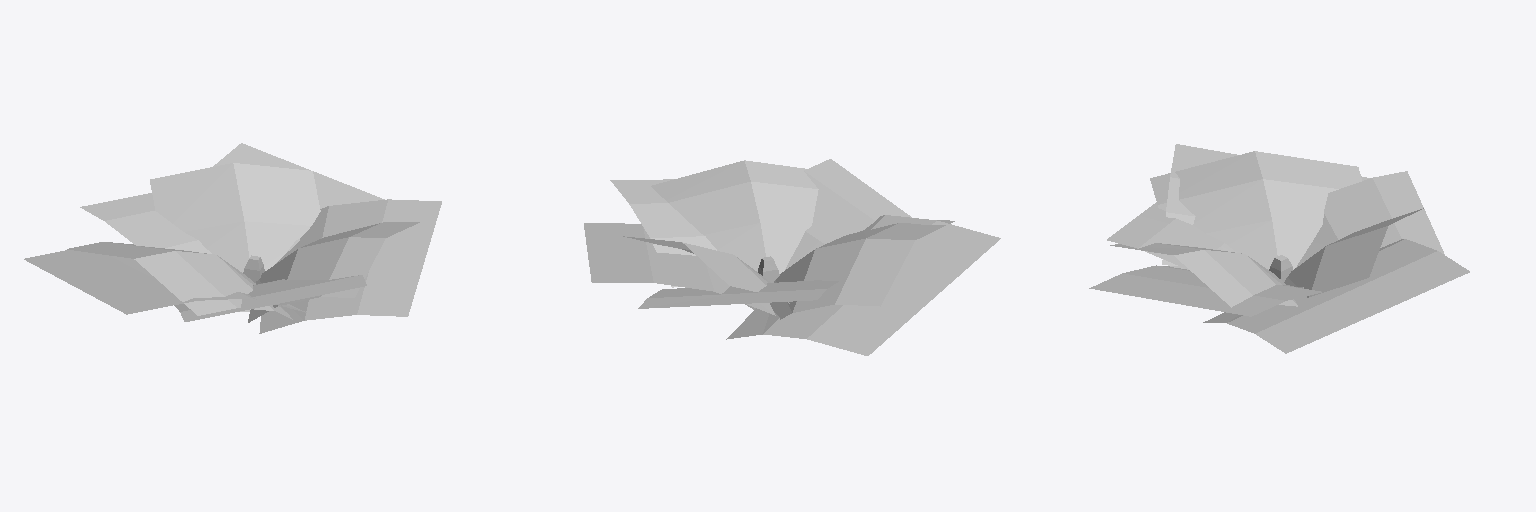
Rendered from Cartoon Flowers_12.obj.
The picture shows the model from 3 angles: view 1: azimuth 30°, elevation 25°; view 2: azimuth 150°, elevation 25°; view 3: azimuth 270°, elevation 25°; orthographic projection.
Visible parts, largest first — view 1: Cartoon Flowers_12; view 2: Cartoon Flowers_12; view 3: Cartoon Flowers_12.
Boxes of the visible parts, <box> form: Cartoon Flowers_12: <box>24,143,441,333</box>; Cartoon Flowers_12: <box>584,159,1000,355</box>; Cartoon Flowers_12: <box>1089,144,1469,353</box>.
Size of the model in its own units: 7.25 by 1.75 by 6.61.